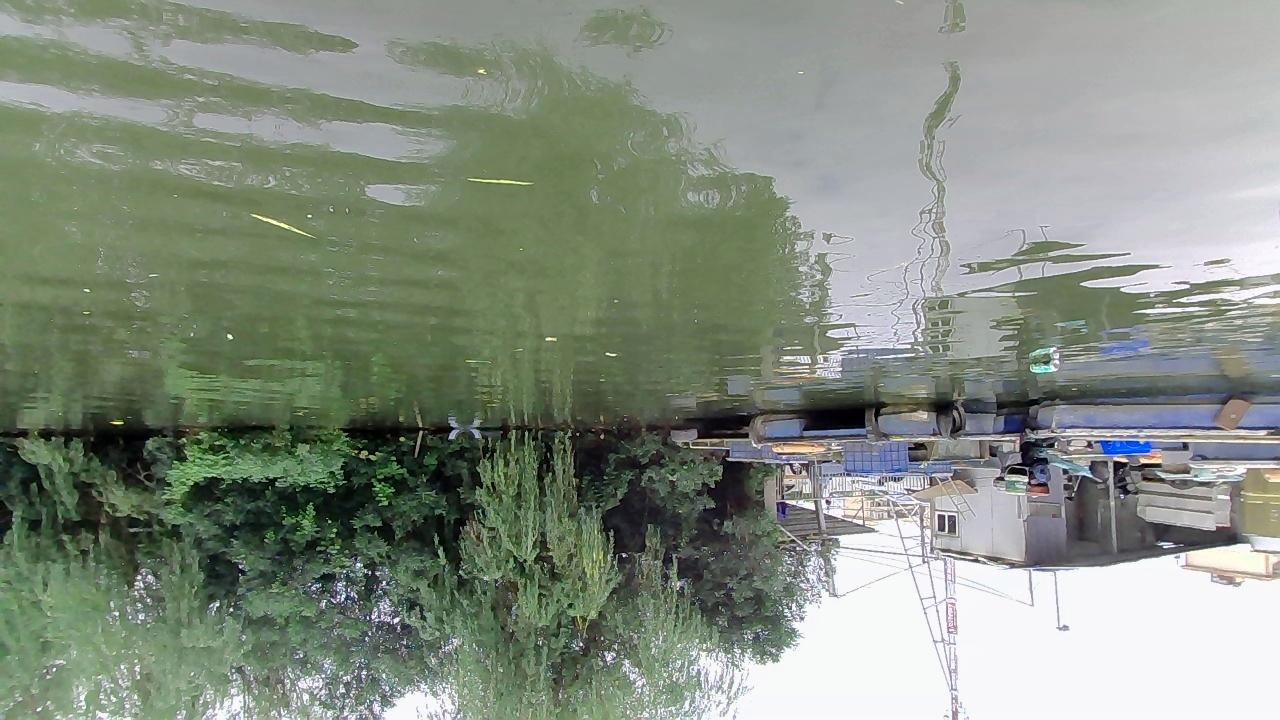Metal: (1028, 358, 1061, 374)
